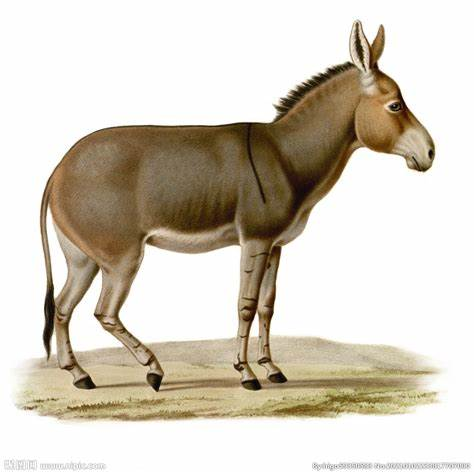background: (37, 19, 440, 400)
